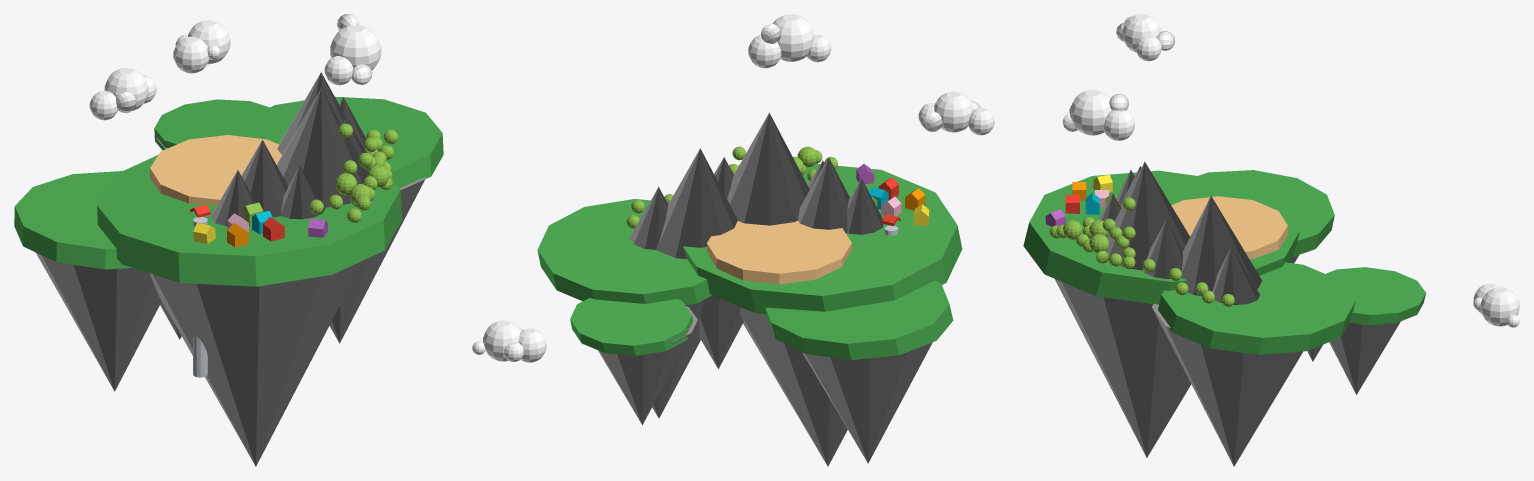
File: Island.glb
The picture shows the model from 3 angles, left to right: view 1: azimuth 30°, elevation 25°; view 2: azimuth 150°, elevation 25°; view 3: azimuth 270°, elevation 25°; orthographic projection. The views are drawn at different scales.
Parts seen in each view (by area): view 1: Node; view 2: Node; view 3: Node.
Part boxes in pixels (x1,y1,x2,y2): Node: (14, 14, 443, 466); Node: (472, 14, 994, 466); Node: (1023, 14, 1519, 466).
Size of the model in its own units: 0.6373 by 0.6617 by 0.7496.
